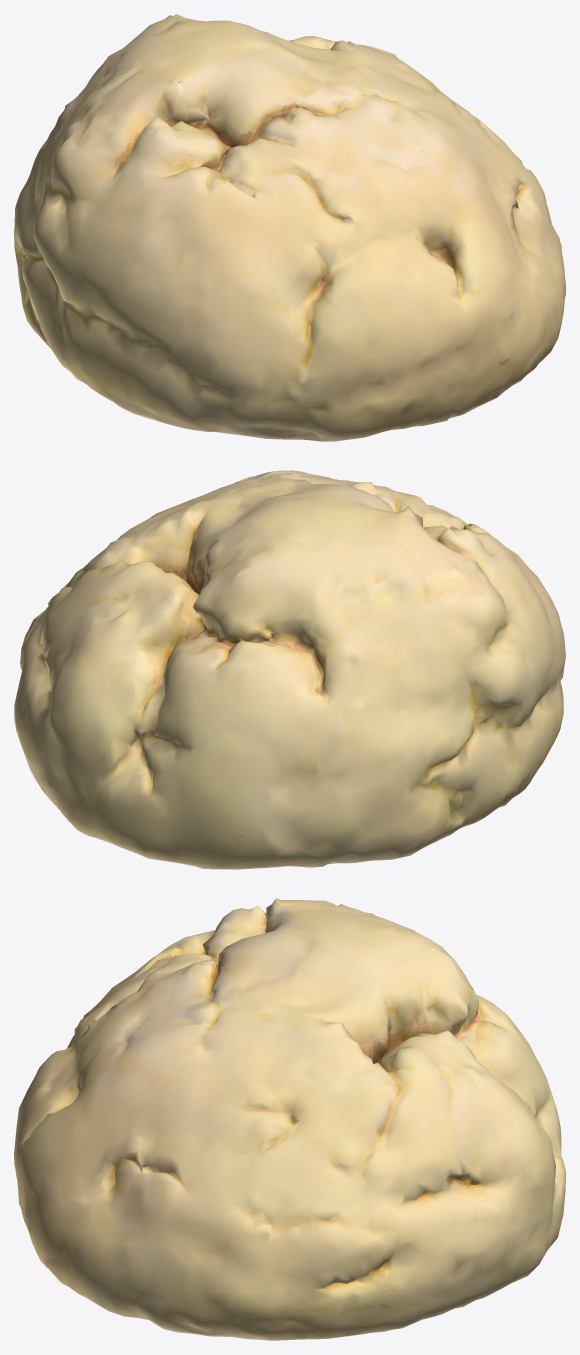
Rendered from doughey.glb.
3 views of the same model, one above another, from view 1: azimuth 30°, elevation 25°; view 2: azimuth 150°, elevation 25°; view 3: azimuth 270°, elevation 25° (orthographic). The views are drawn at different scales.
Bounding box in the file's own units: 1.98 × 1.17 × 2.
Materials: 1 (1 with a texture image).
